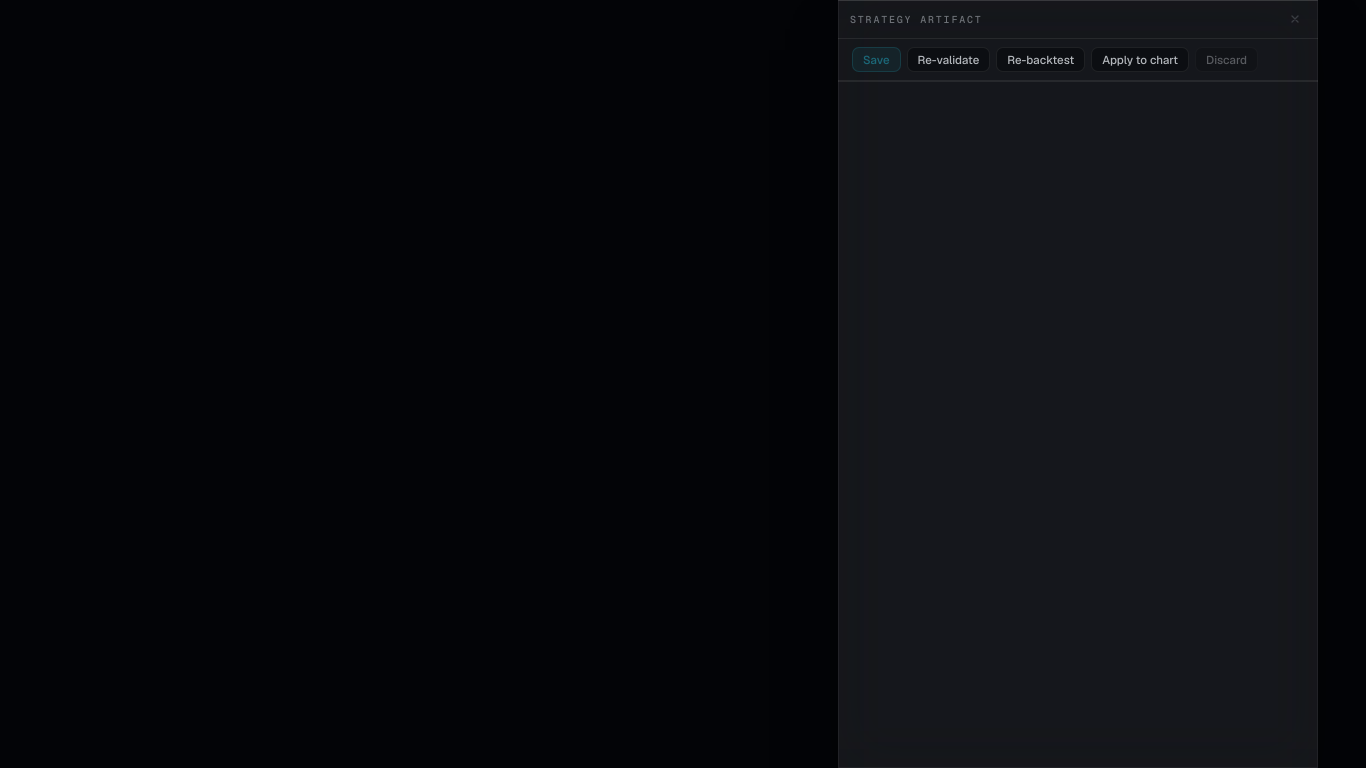
StrategyArtifactPanel › shows validate result in status row after re-validate
Click the button with test id "btn-validate". click: (948,60)
box: [907, 47, 990, 72]
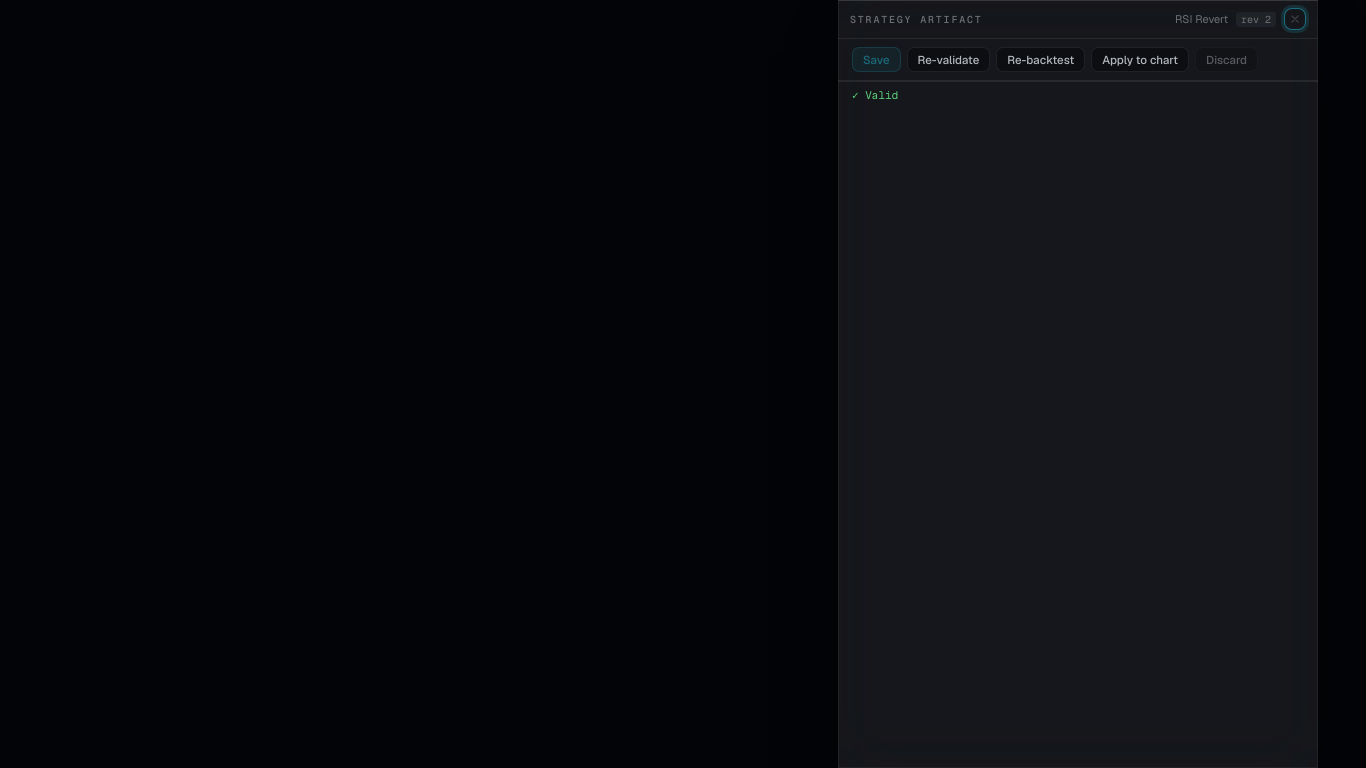
Expected: the text with test id "validate-result" shows "Valid", [865, 88, 898, 102]
